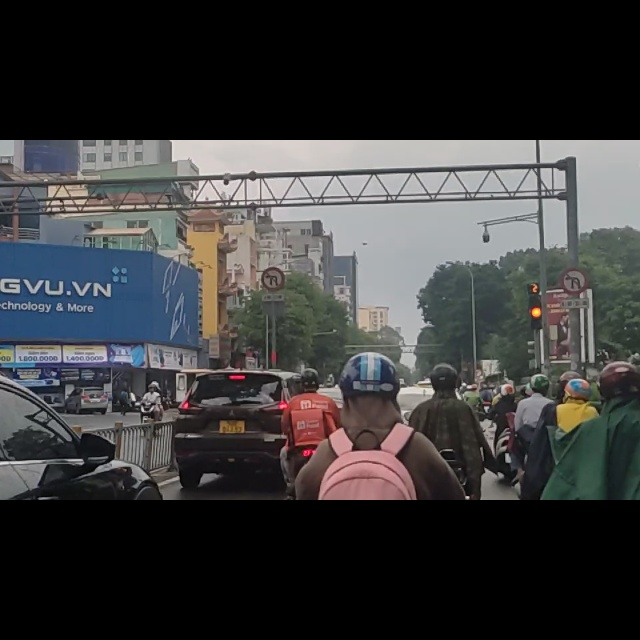bien_cam: (561, 229, 588, 271), (261, 226, 284, 267)
